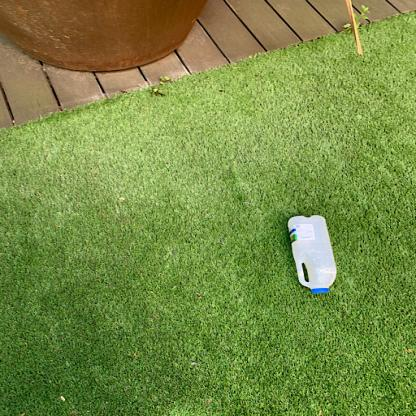trash: (288, 213, 341, 296)
